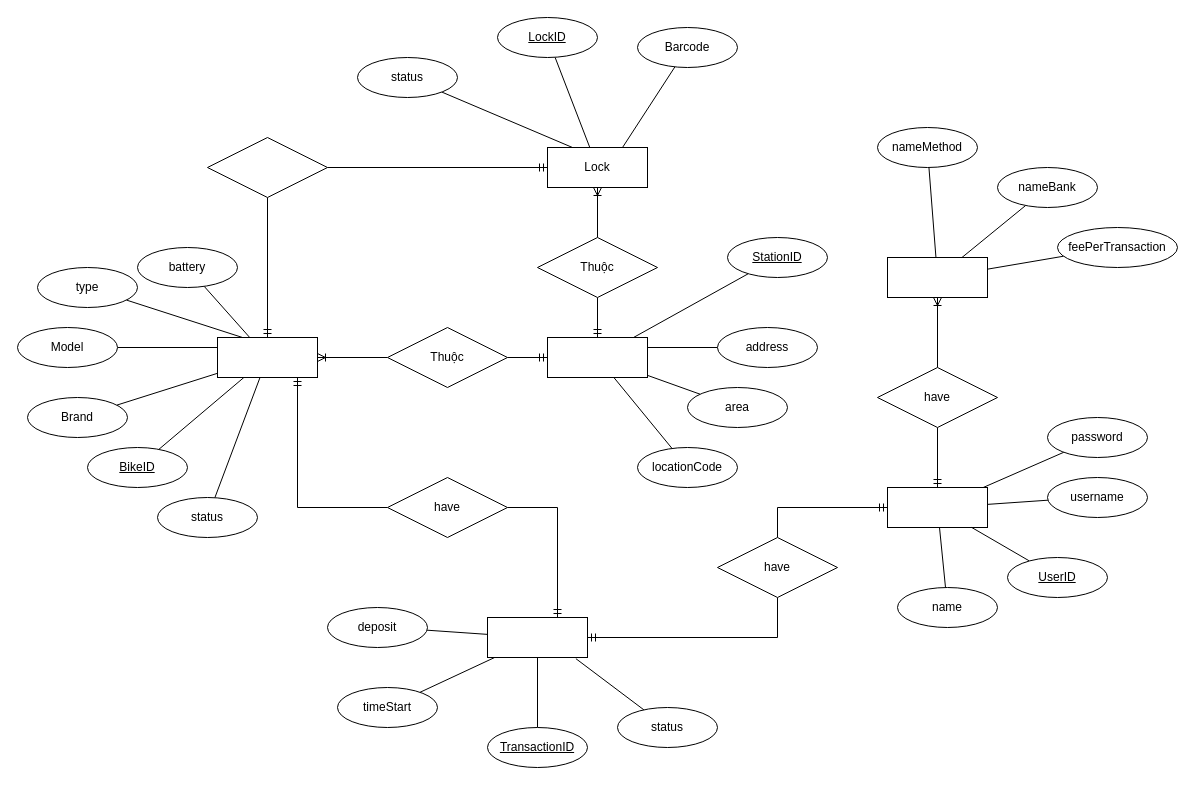
Some shapes in this 1195 by 785 pixel diagram are drawn without their labels. The centre of each missing label's shape, as x and y in pixels:
Bike: pixel 267 357
open, close: pixel 267 167
PaymentMethod: pixel 937 277
Station: pixel 597 357
Transaction: pixel 537 637
User: pixel 937 507
